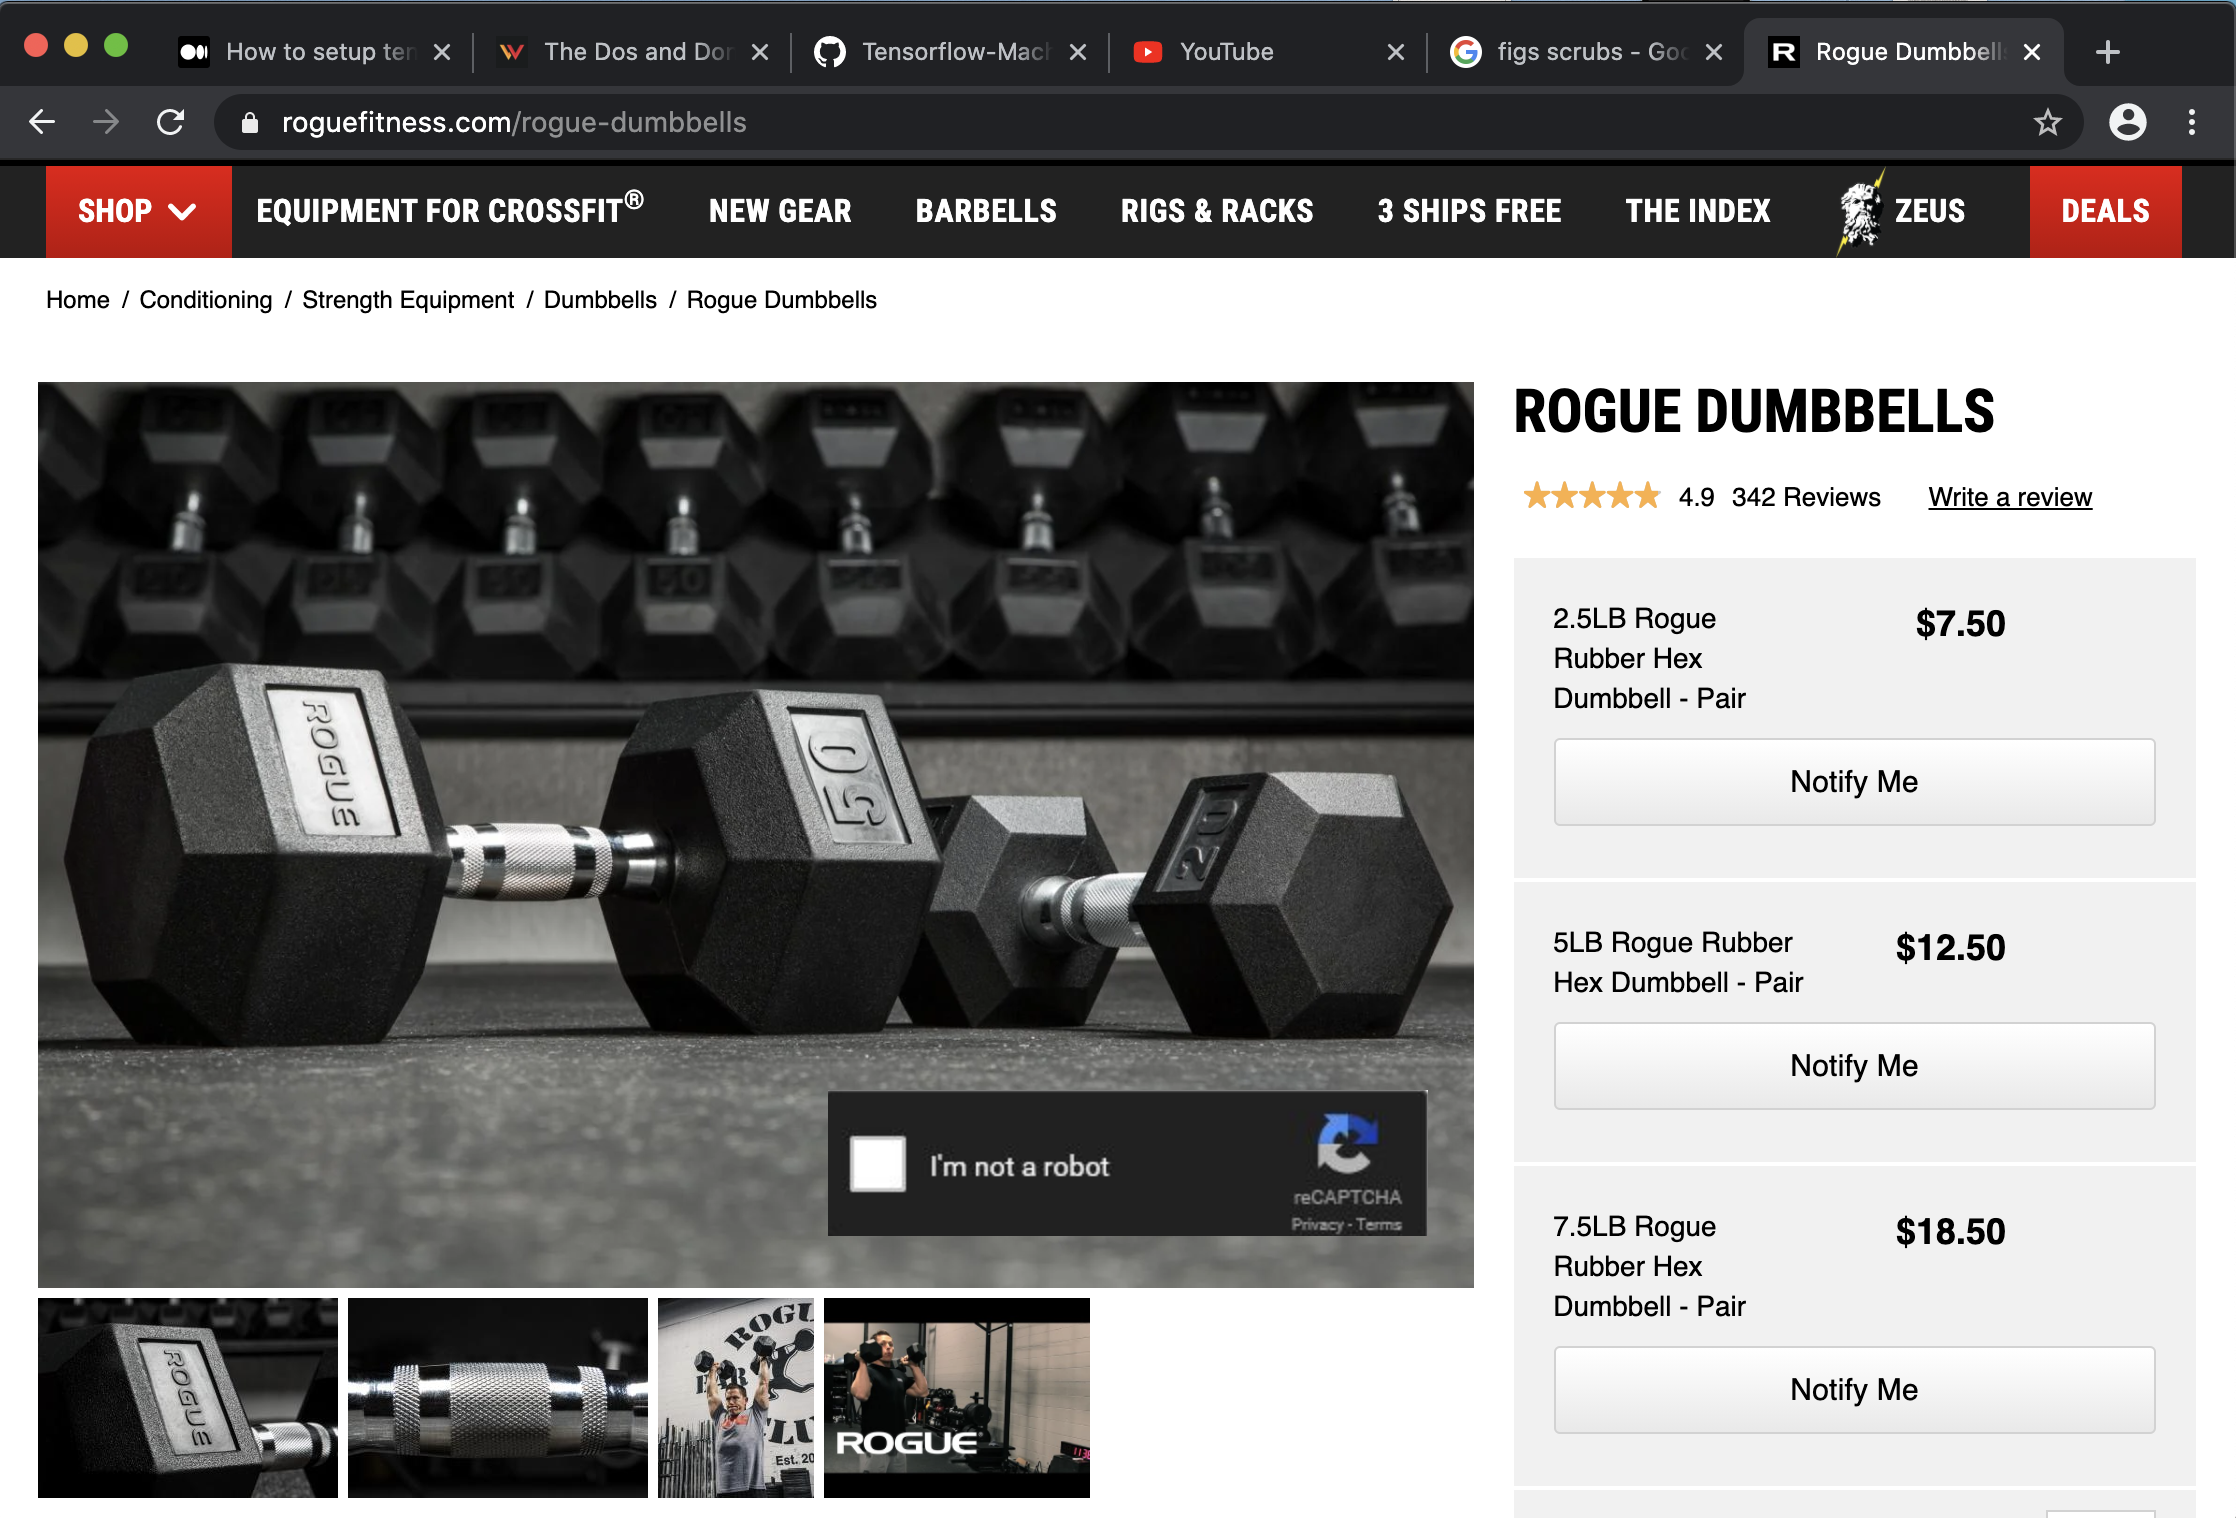captcha: (815, 1072, 1448, 1255)
